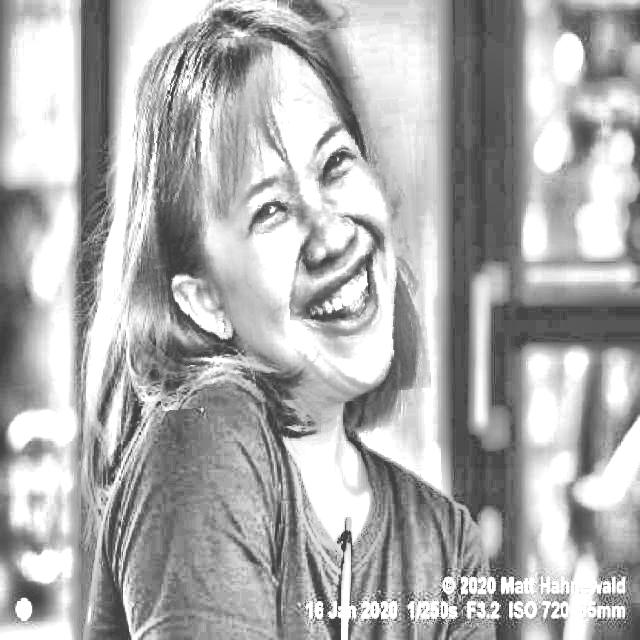happy: (138, 28, 424, 406)
